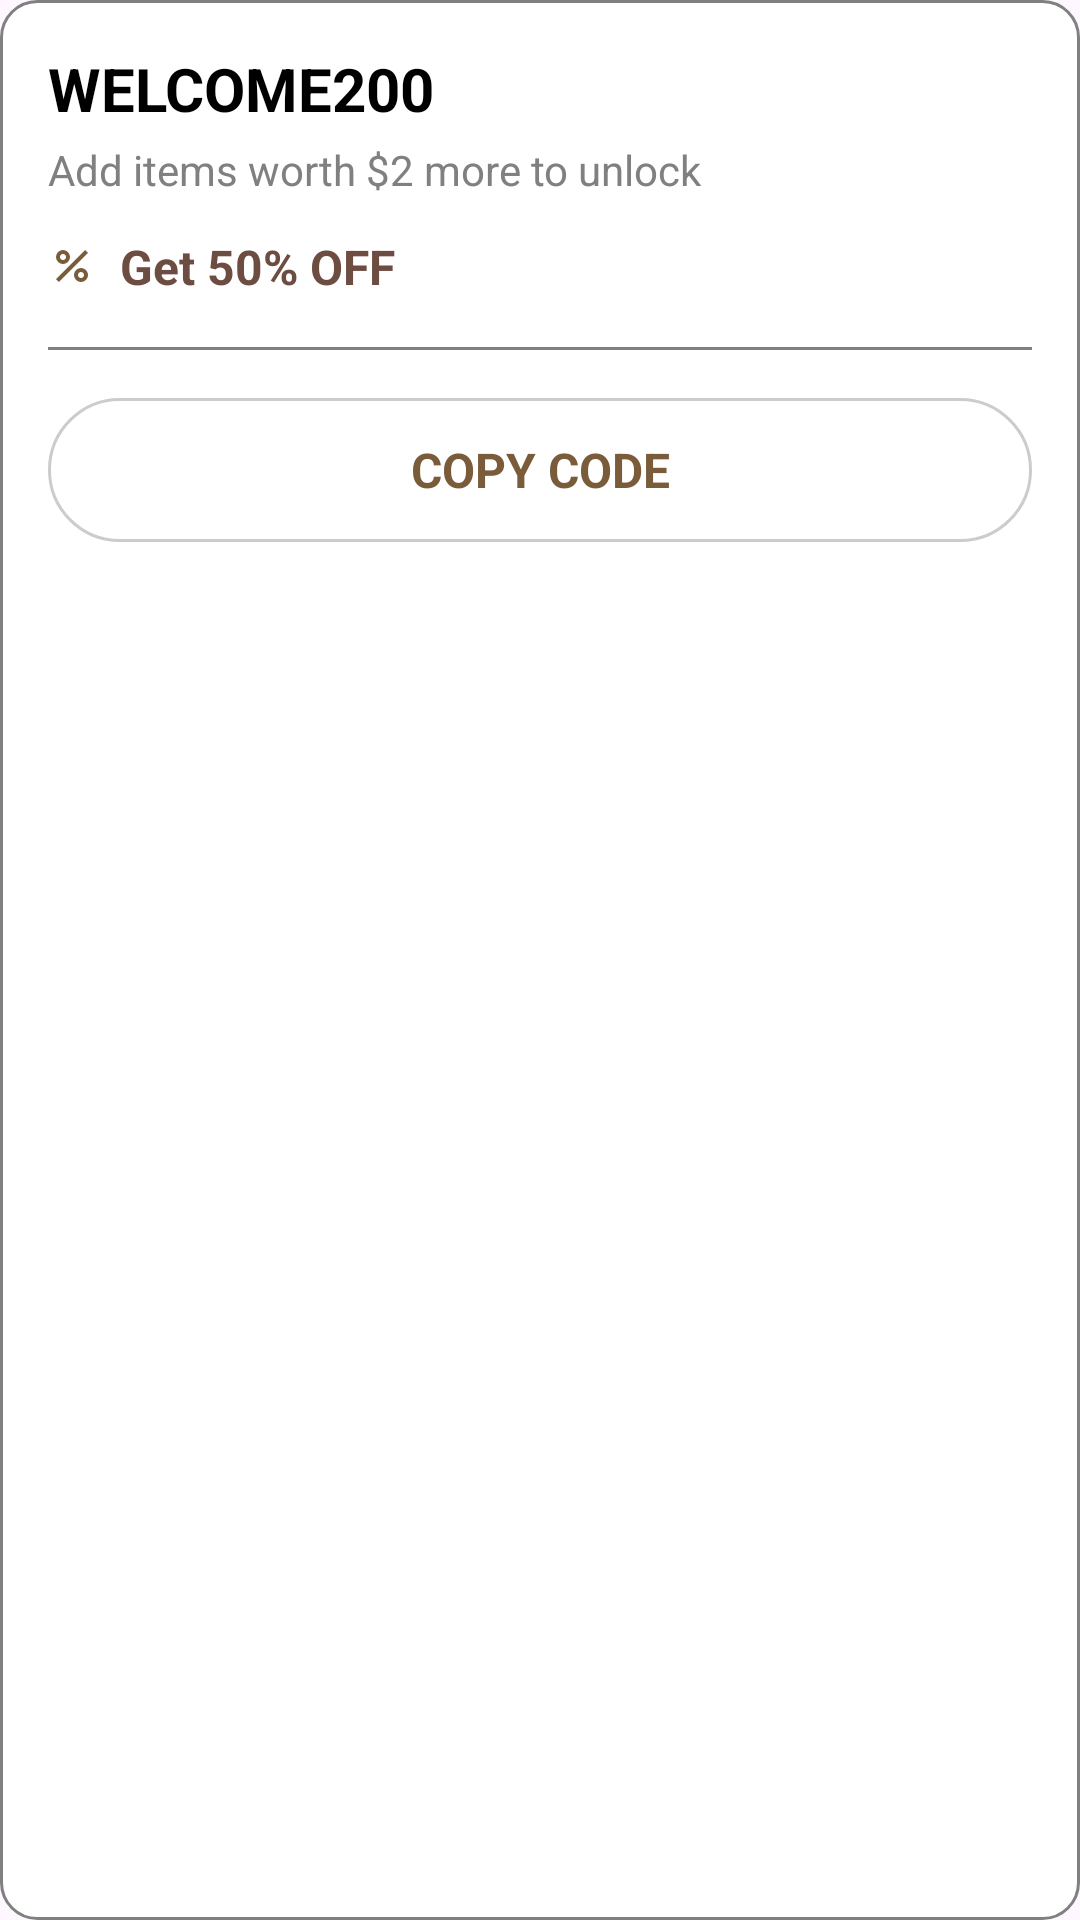

Point at icon controls on the screen. Image size 1080 x 1920, points as [x,y].
discount: [72,266]
